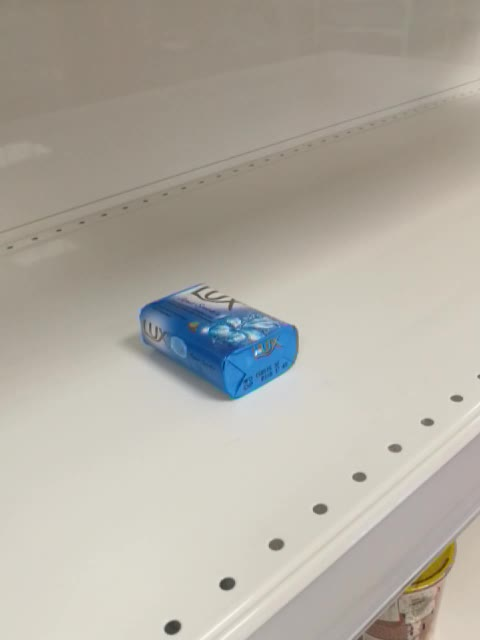soap: (138, 282, 301, 400)
